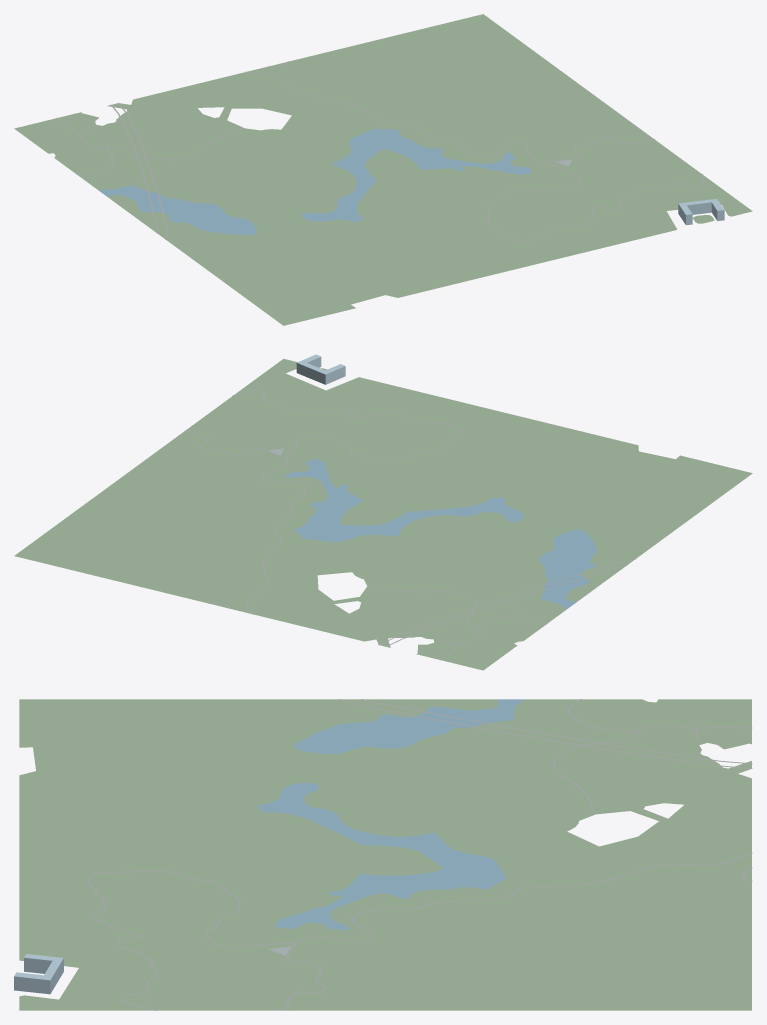
The model's file is -4_8-known-coarse.glb.
The picture shows the model from 3 angles, top to bottom: view 1: azimuth 30°, elevation 25°; view 2: azimuth 150°, elevation 25°; view 3: azimuth 270°, elevation 25°; orthographic projection. The views are drawn at different scales.
Bounding box in the file's own units: 1003 × 21 × 1004.
